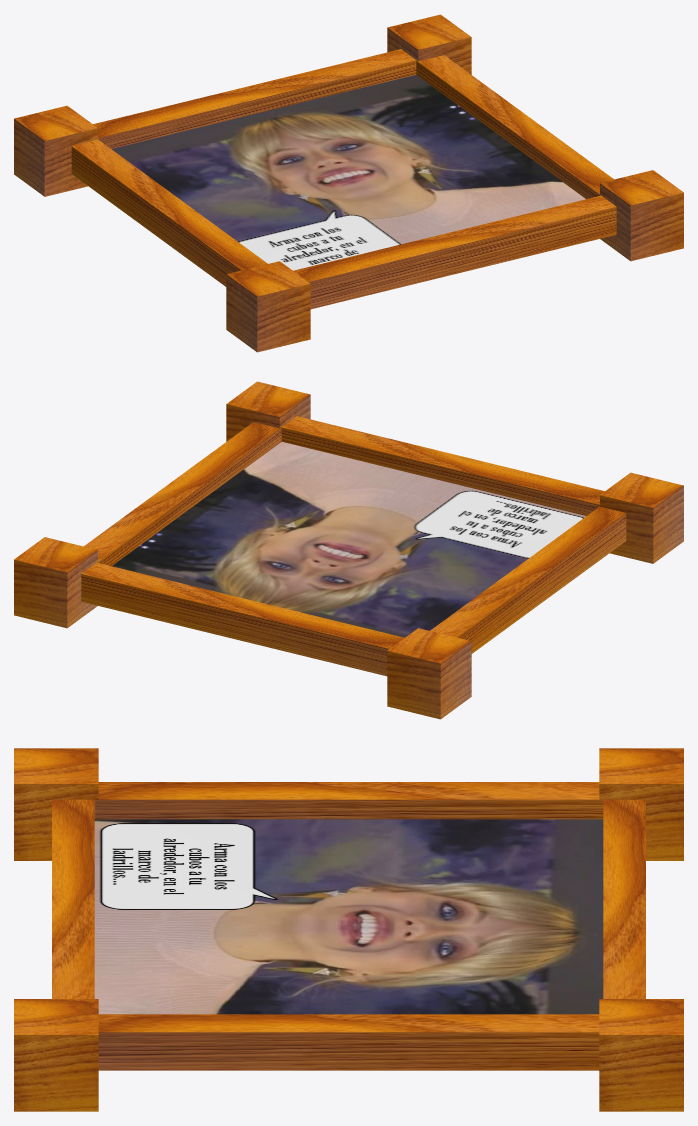
Rendered from Ins01.fbx.
3 renders of one model, top to bottom at view 1: azimuth 30°, elevation 25°; view 2: azimuth 150°, elevation 25°; view 3: azimuth 270°, elevation 25°, orthographic. The views are drawn at different scales.
Parts seen in each view (by area): view 1: Plano; view 2: Plano; view 3: Plano.
Part boxes in pixels (bbox=[...]): Plano: bbox=[14, 14, 683, 352]; Plano: bbox=[14, 381, 683, 719]; Plano: bbox=[14, 748, 683, 1111].
Bounding box in the file's own units: 80 × 10 × 79.
